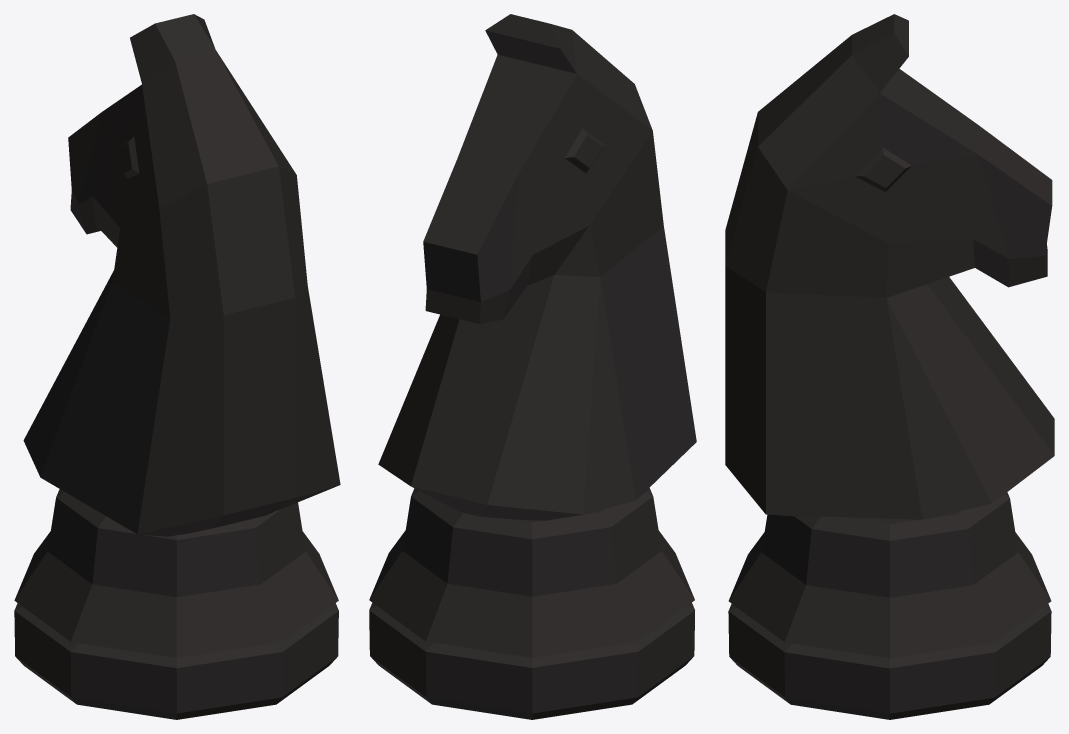
File: oknight.FBX
The picture shows the model from 3 angles, left to right: view 1: azimuth 30°, elevation 25°; view 2: azimuth 150°, elevation 25°; view 3: azimuth 270°, elevation 25°; orthographic projection.
Parts seen in each view (by area): view 1: Black_Knight_mesh; view 2: Black_Knight_mesh; view 3: Black_Knight_mesh.
Part boxes in pixels (<box>): Black_Knight_mesh: <box>14,14,340,719</box>; Black_Knight_mesh: <box>369,14,696,719</box>; Black_Knight_mesh: <box>725,14,1054,719</box>.
Bounding box in the file's own units: 2.79 × 2.89 × 6.12.
Materials: 1 (1 with a texture image).
